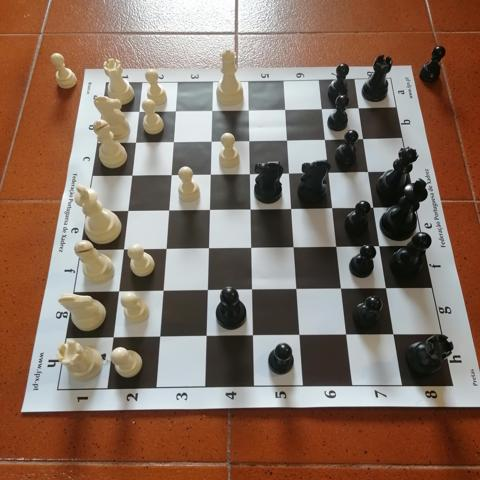xcorner: (314, 99, 331, 116), (165, 101, 182, 118), (240, 131, 257, 148), (163, 132, 180, 149), (362, 163, 379, 180), (281, 164, 298, 181), (201, 165, 218, 182), (121, 166, 138, 183), (200, 201, 217, 218), (330, 239, 347, 256), (244, 282, 261, 299), (245, 328, 262, 345), (240, 100, 256, 117), (202, 101, 219, 117), (318, 130, 334, 147), (279, 131, 296, 147), (241, 165, 258, 181), (161, 166, 178, 182), (284, 200, 300, 217), (242, 201, 259, 217), (117, 202, 134, 218), (287, 239, 303, 256), (243, 240, 260, 256), (200, 240, 216, 257), (156, 241, 173, 257), (113, 241, 130, 257), (381, 281, 397, 298), (335, 281, 351, 298), (289, 282, 306, 298), (199, 282, 215, 299), (109, 283, 125, 300), (388, 327, 404, 344), (340, 328, 357, 344), (293, 328, 309, 345), (104, 329, 120, 346), (352, 99, 368, 115), (277, 100, 293, 116), (128, 102, 144, 118), (357, 130, 373, 146), (202, 132, 218, 148), (125, 133, 141, 149), (322, 164, 338, 180), (368, 200, 384, 216), (326, 200, 342, 216), (159, 202, 175, 218), (374, 239, 390, 255), (154, 283, 170, 299), (198, 329, 214, 345), (151, 329, 167, 345)
